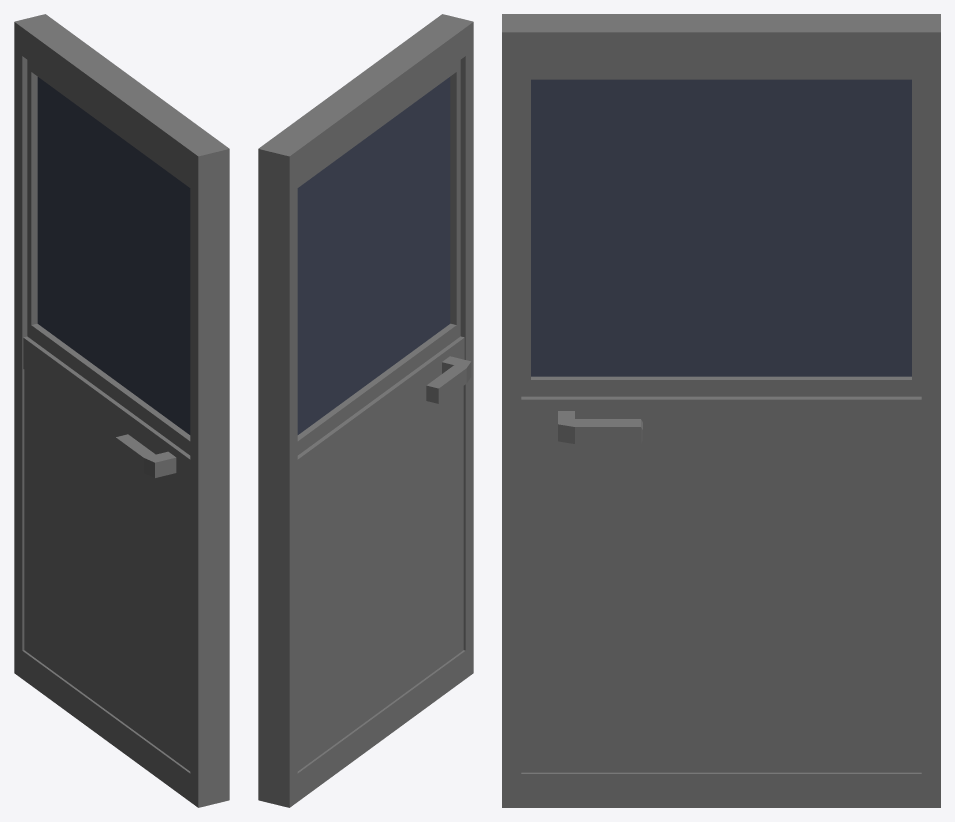
File: DoorV2.fbx
3 renders of one model, left to right at view 1: azimuth 30°, elevation 25°; view 2: azimuth 150°, elevation 25°; view 3: azimuth 270°, elevation 25°, orthographic. The views are drawn at different scales.
Visible parts, largest first — view 1: Cube; view 2: Cube; view 3: Cube.
Part boxes in pixels (x1,y1,x2,y2): Cube: (14,14,229,807); Cube: (258,14,473,807); Cube: (502,14,940,807).
Bounding box in the file's own units: 48.33 × 367 × 188.
